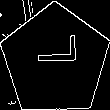L_W: (31, 44, 79, 77)
